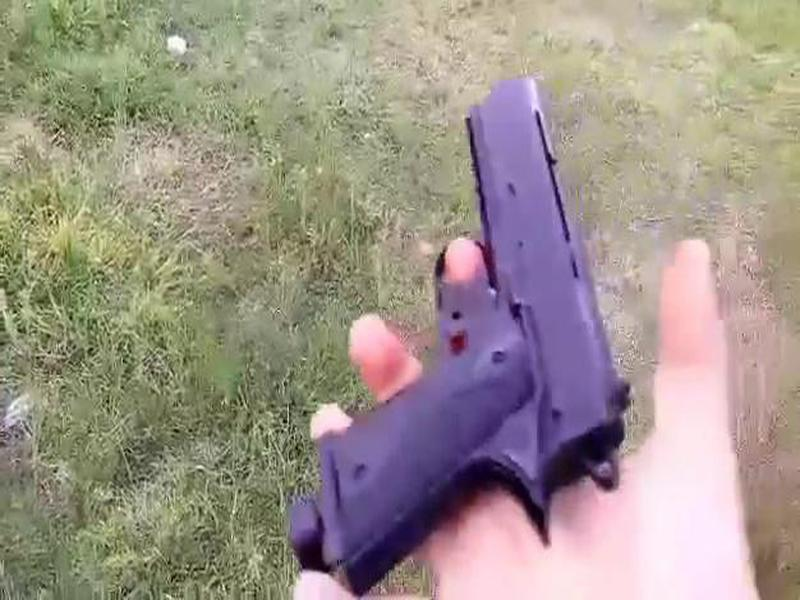Pistola: (321, 64, 634, 595)
